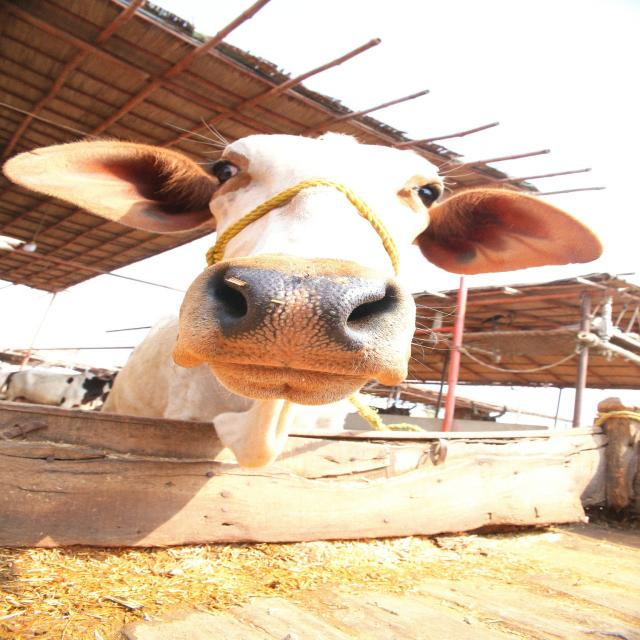muzzles: (197, 255, 396, 376)
